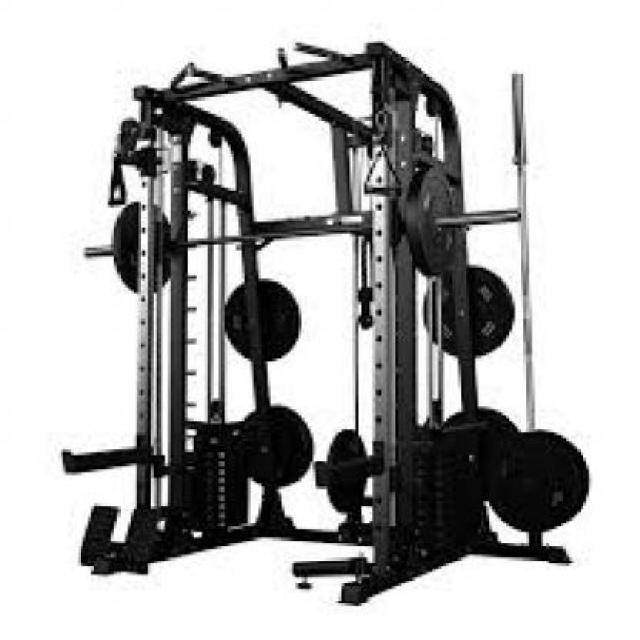smith machine: (62, 40, 592, 605)
